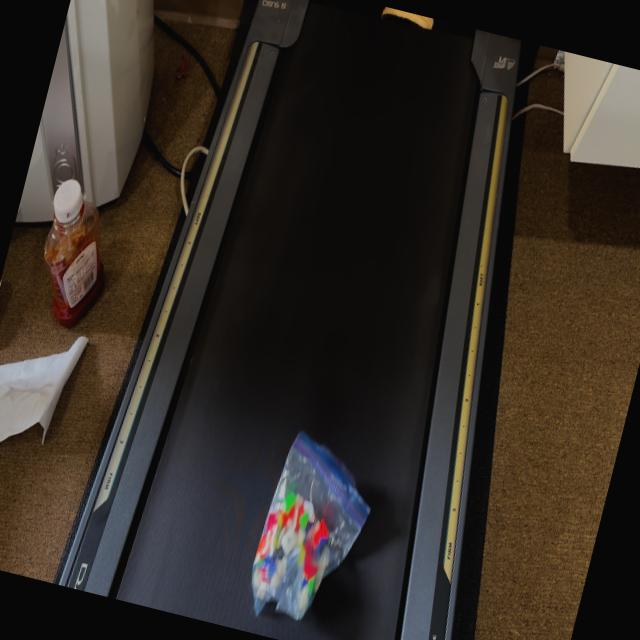Trash: (240, 423, 386, 634)
